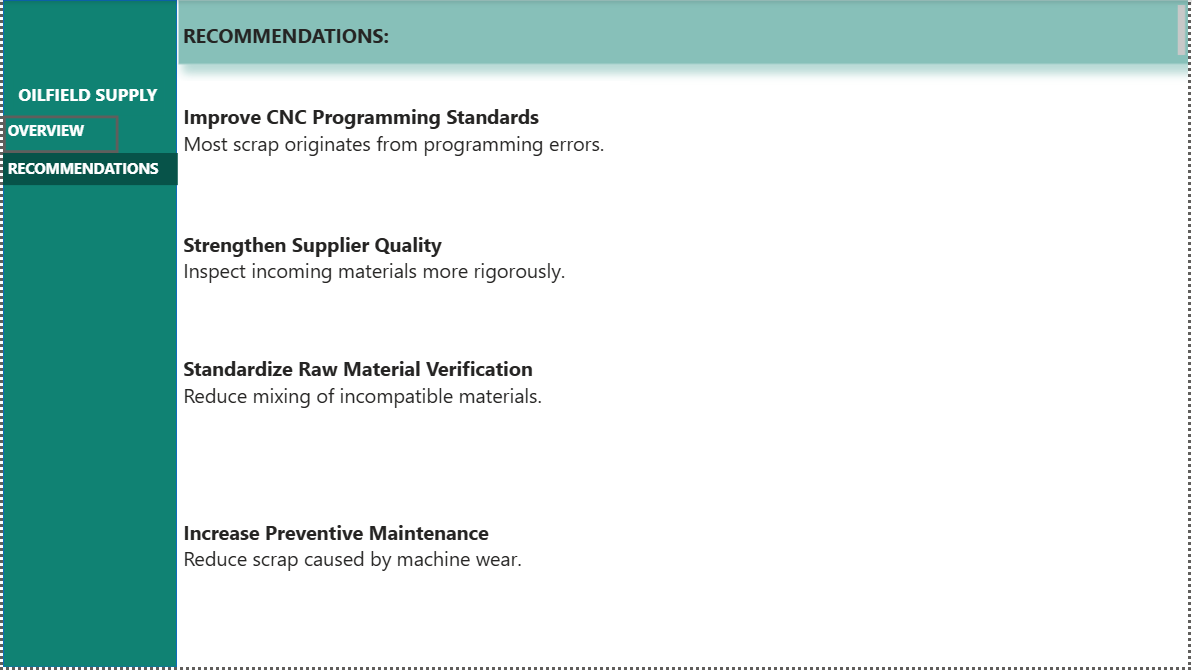

What the dashboard file says about the page in this screenshot:
{"tool":"powerbi","page":{"name":"Recommendations","canvas":[1280,720],"ordinal":2},"visuals":[{"type":"shape","box":[0,0,187.8,720.6],"z":0},{"type":"textbox","box":[188.7,0,1091.9,69.3],"z":1000},{"type":"textbox","box":[188.7,86.7,487.2,121.3],"z":2000},{"type":"textbox","box":[188.7,225.3,485.3,134.8],"z":3000},{"type":"textbox","box":[188.7,360.1,485.3,154.1],"z":4000},{"type":"textbox","box":[188.7,535.4,485.3,184.9],"z":5000},{"type":"textbox","box":[11.3,84.2,163.5,40.5],"z":5503},{"type":"textbox","box":[0,125.2,175.2,40.4],"z":6003},{"type":"textbox","box":[0,165.6,188.7,34.7],"z":6503},{"type":"actionButton","box":[0,124.7,124.7,40.5],"z":6504}]}

Visuals, with their boxes in screenshot pixels (x1, y1, x2, y2), scaled from the page's 1280x720 canvas onto the 1192x670 screenshot:
shape: left=0, top=0, right=175, bottom=669
textbox: left=176, top=0, right=1191, bottom=64
textbox: left=176, top=81, right=629, bottom=194
textbox: left=176, top=210, right=628, bottom=335
textbox: left=176, top=335, right=628, bottom=478
textbox: left=176, top=498, right=628, bottom=669
textbox: left=11, top=78, right=163, bottom=116
textbox: left=0, top=117, right=163, bottom=154
textbox: left=0, top=154, right=176, bottom=186
actionButton: left=0, top=116, right=116, bottom=154
